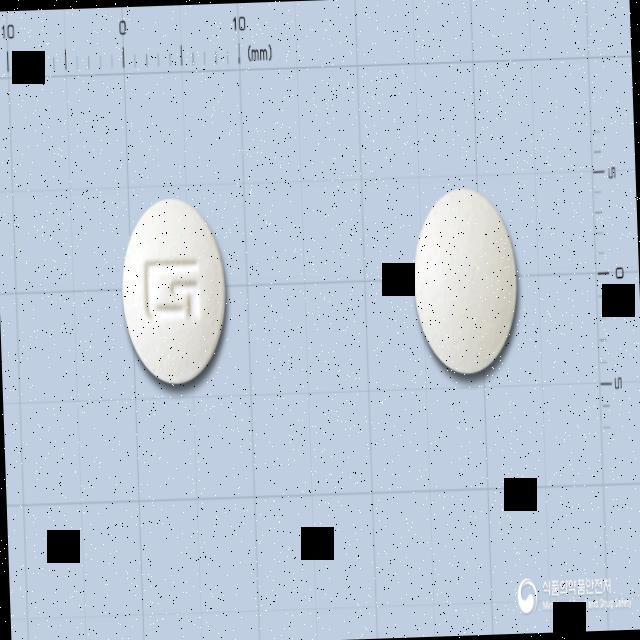Lefexin: (118, 195, 230, 385)
